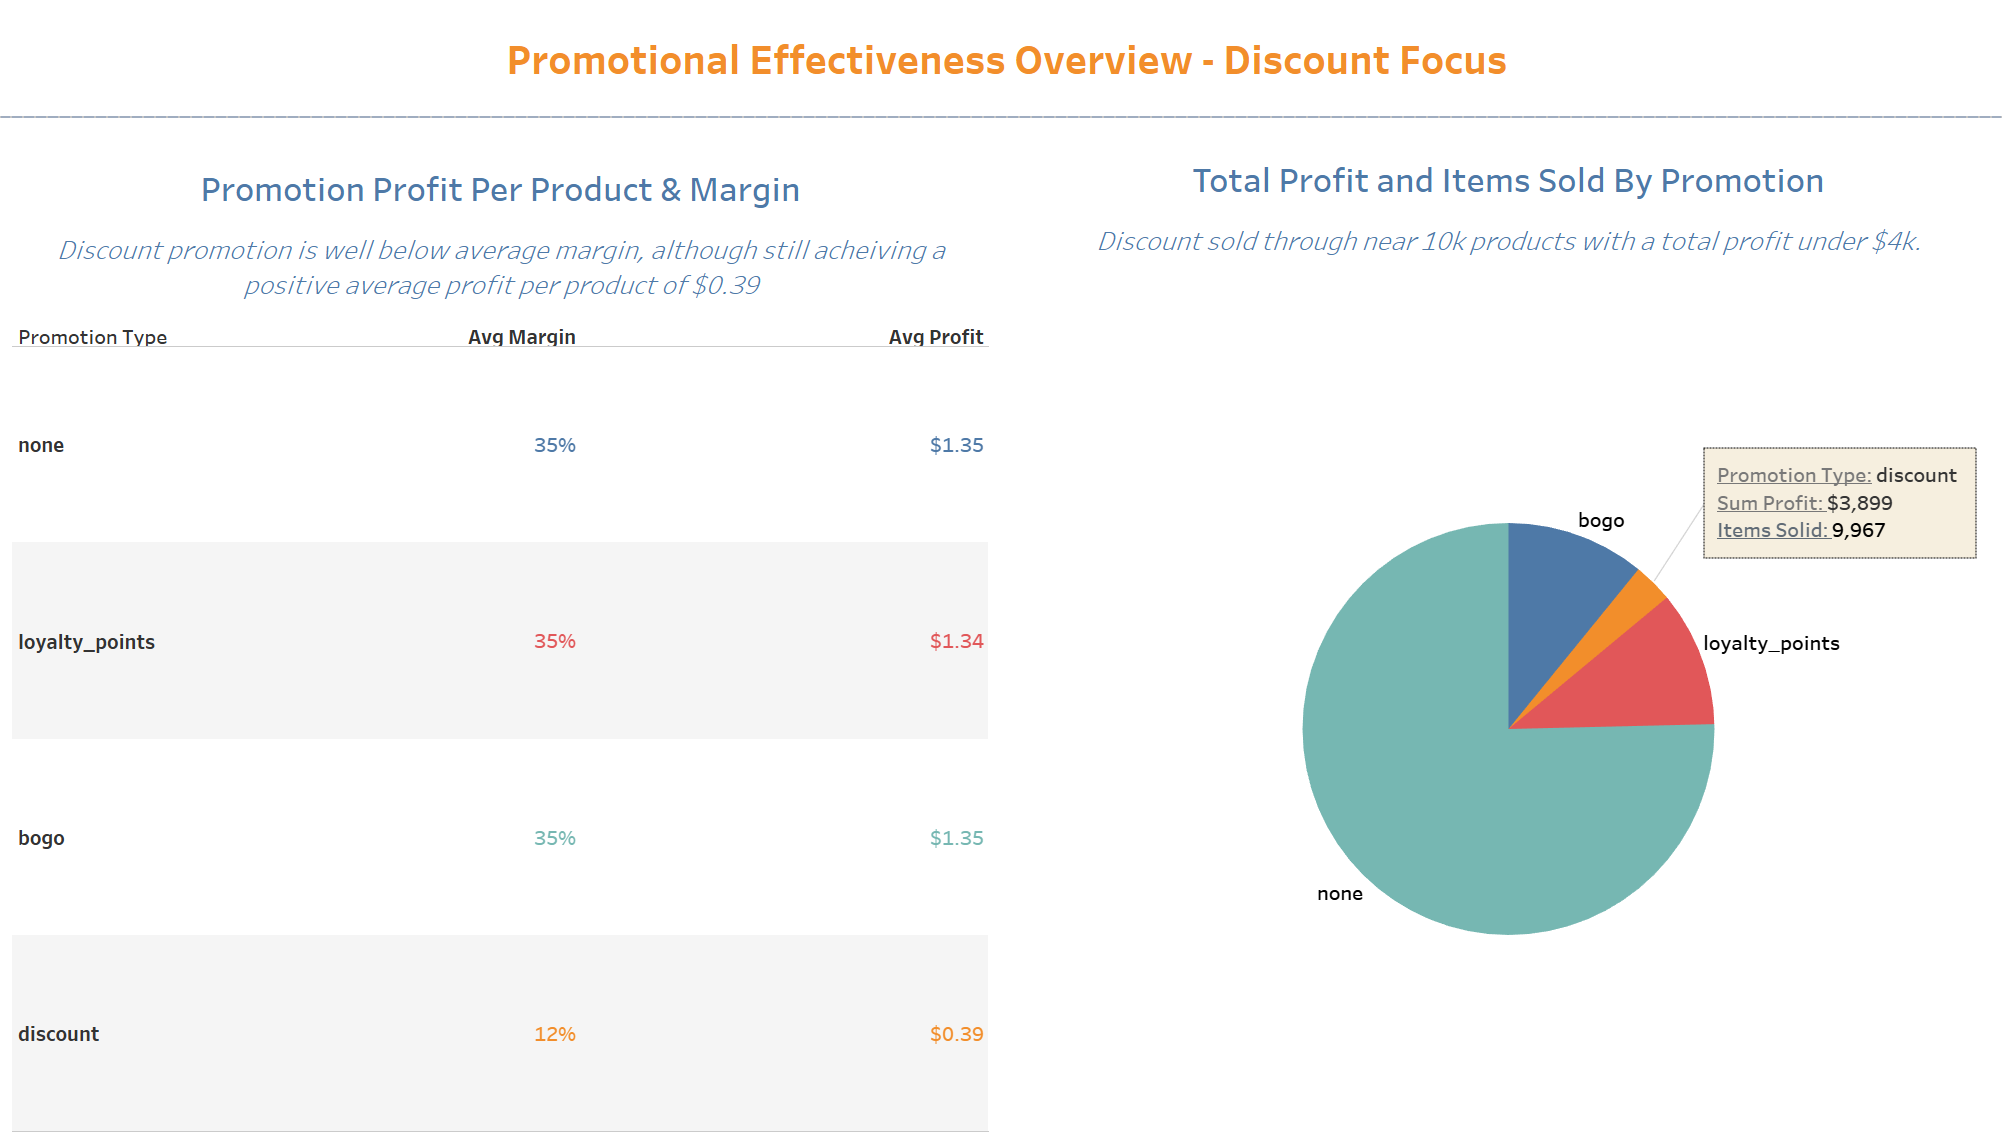

The dashboard page shown, as its layout file describes it:
{"tool":"tableau","page":{"name":"Promo Effectiveness ","canvas":[1000,1000],"units":"permille","ordinal":1},"visuals":[{"type":"text","box":[3.2,6.9,828.7,99.9]},{"type":"legend","title":"Promotion Profit Per Product & Margin","param":"[federated.1mpebar0h324ir1ccyzxu1me6pza].[none:promotion_type:nk]","box":[831.9,6.9,104.8,685.6]},{"type":"worksheet","title":"Promotion Profit Per Product & Margin","mark":"Automatic","rows":["promotion_type"],"box":[3.2,134.3,396.8,858.8]},{"type":"worksheet","title":"Total Profit & Item Pie","mark":"Pie","box":[399.9,134.3,432,858.8]},{"type":"dashboard-object","box":[883.3,815.7,108.8,44.8]},{"type":"dashboard-object","box":[883.7,869.1,109.2,44.8]},{"type":"dashboard-object","box":[883.7,921.6,109.2,44.8]}]}

Visuals, with their boxes on the dashboard's canvas, which has no fixed pixel size, in thousandths of its width and height (x1, y1, x2, y2). These are canvas units, not pixel positions in the 2002x1137 screenshot, which may show the page scaled, cropped or inside an application window:
text: left=3, top=7, right=832, bottom=107
"Promotion Profit Per Product & Margin" legend: left=832, top=7, right=937, bottom=692
"Promotion Profit Per Product & Margin" worksheet: left=3, top=134, right=400, bottom=993
"Total Profit & Item Pie" worksheet (Pie marks): left=400, top=134, right=832, bottom=993
dashboard-object: left=883, top=816, right=992, bottom=860
dashboard-object: left=884, top=869, right=993, bottom=914
dashboard-object: left=884, top=922, right=993, bottom=966
